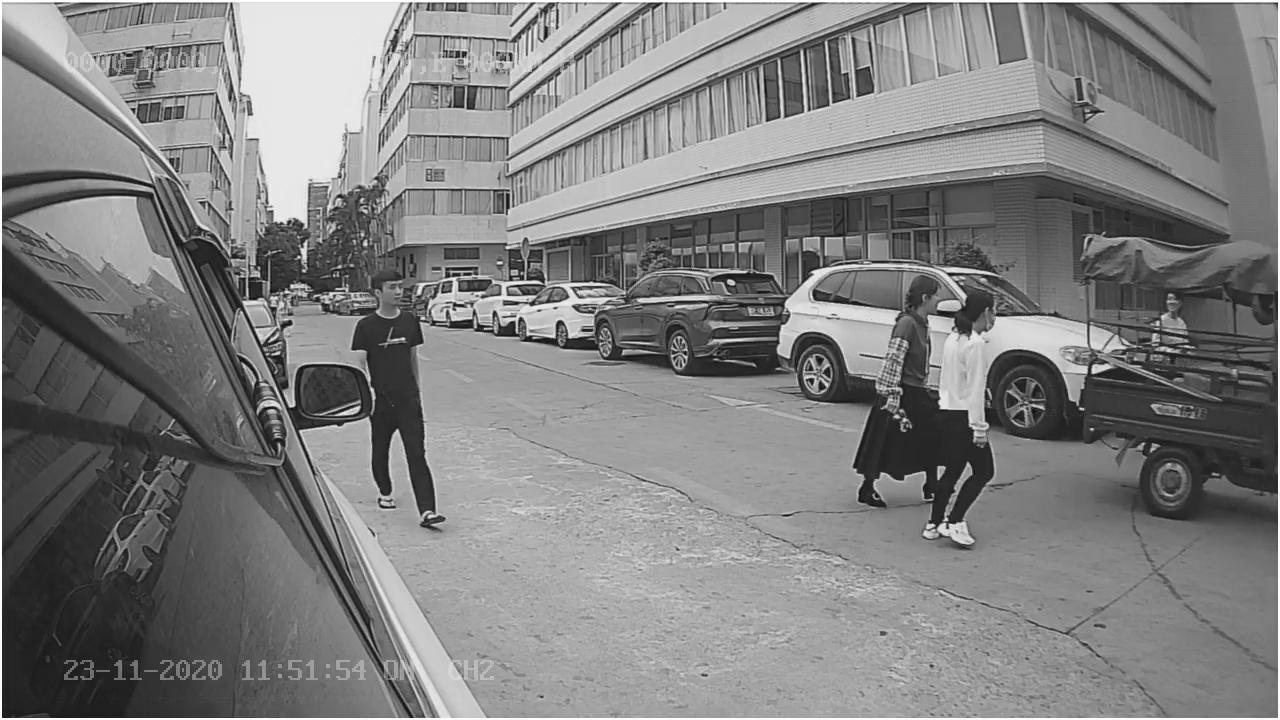person: (918, 286, 1007, 554)
